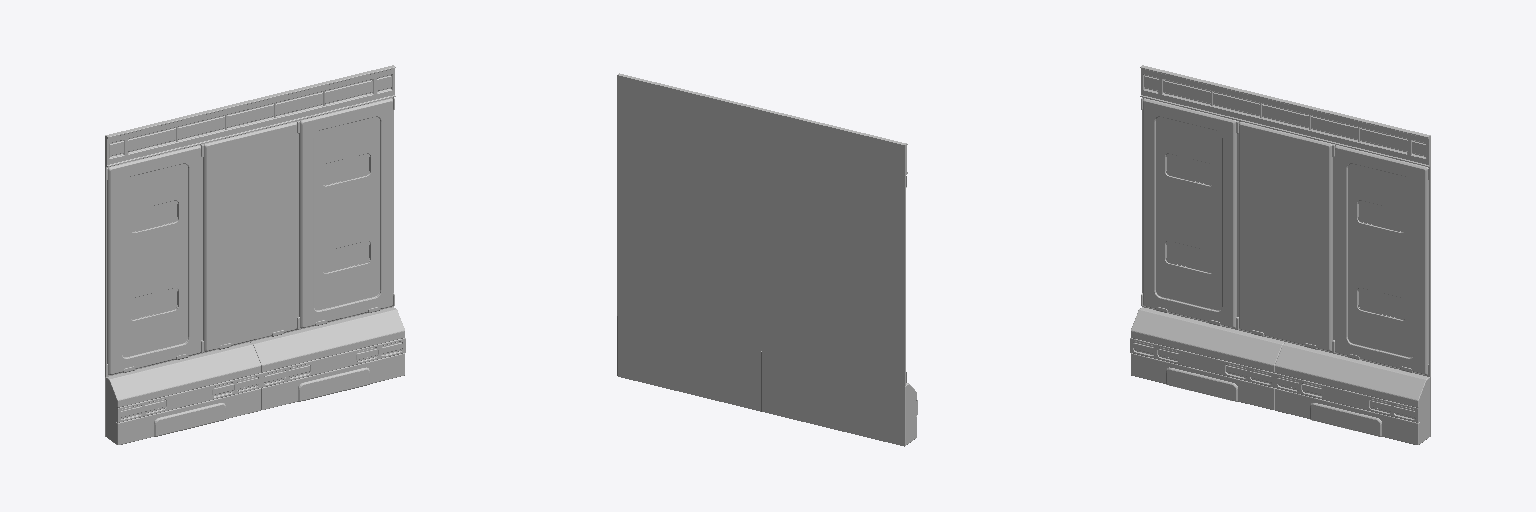
Rendered from SM_Wall_BA.obj.
3 renders of one model, left to right at view 1: azimuth 30°, elevation 25°; view 2: azimuth 150°, elevation 25°; view 3: azimuth 330°, elevation 25°, orthographic.
Visible parts, largest first — view 1: props.002; view 2: props.002; view 3: props.002.
Part boxes in pixels (x1,y1,x2,y2): props.002: (105,65,405,444); props.002: (617,73,917,446); props.002: (1130,65,1430,444).
Bounding box in the file's own units: 0.04 × 0.04 × 0.0033.